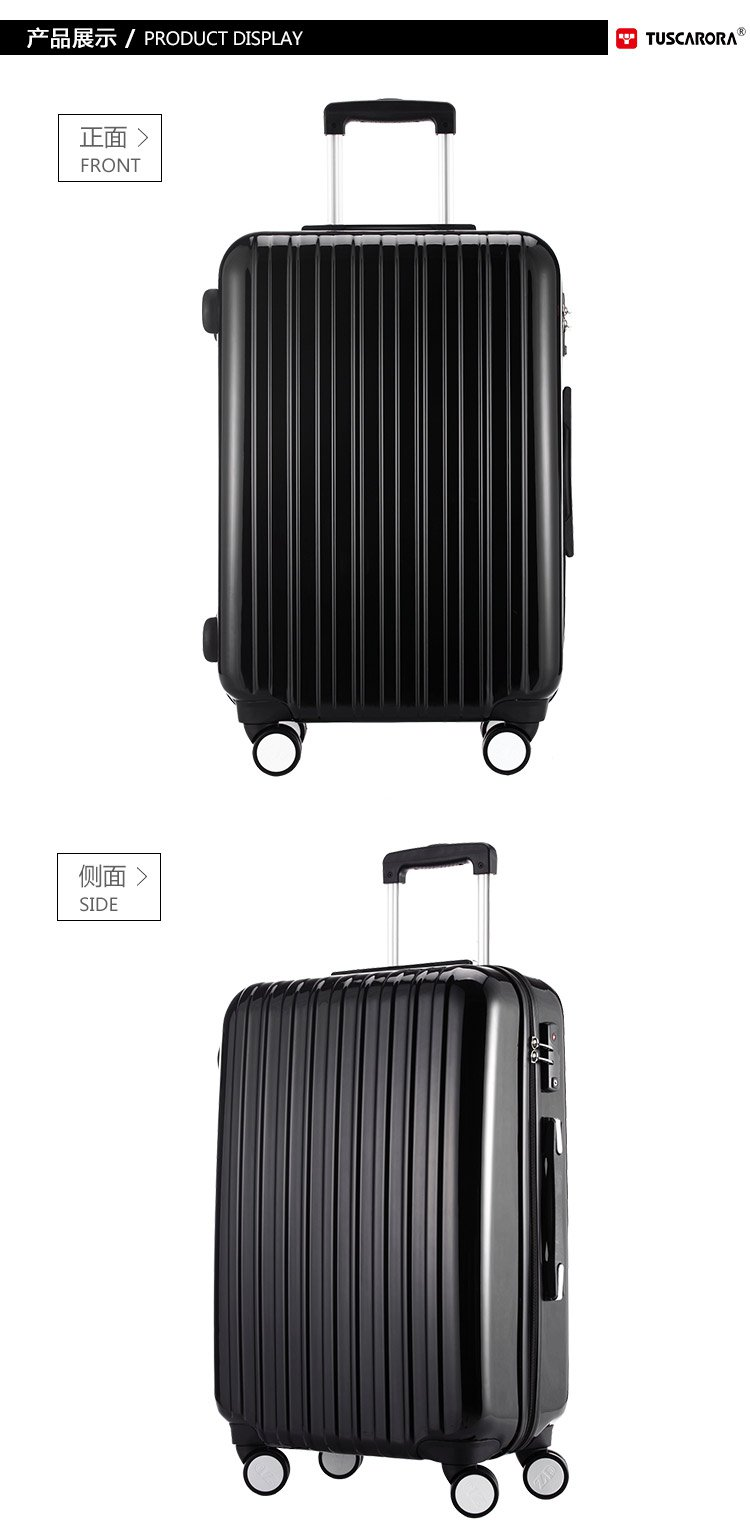suitcase: (199, 97, 574, 776), (210, 839, 571, 1519)
